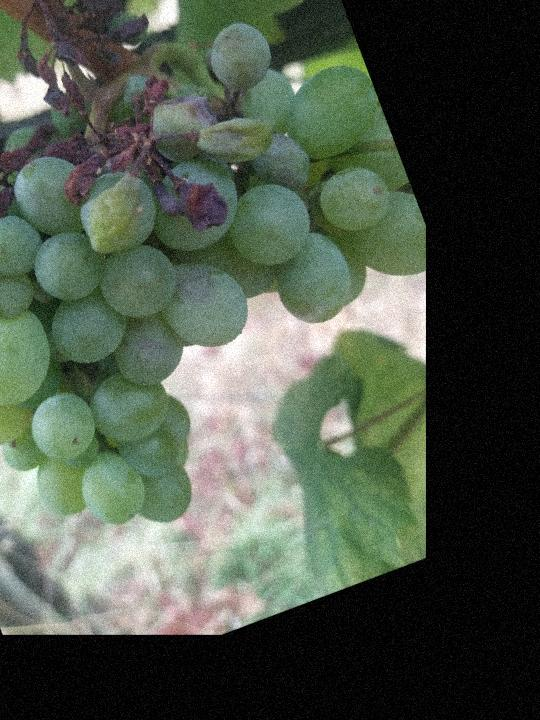grape: (0, 0, 492, 586)
